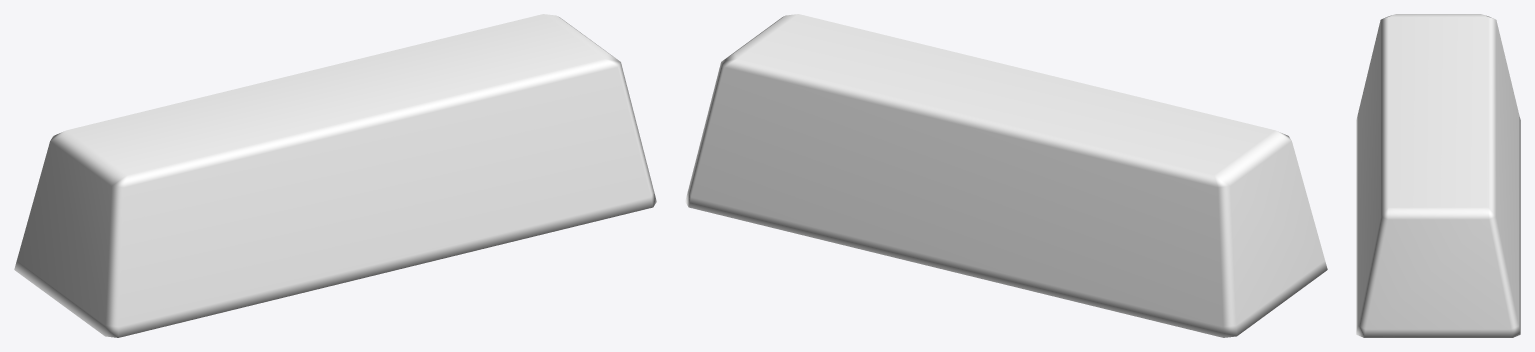
The model's file is SM_RefinedMetal_4a.fbx.
3 views of the same model, side by side, from view 1: azimuth 30°, elevation 25°; view 2: azimuth 150°, elevation 25°; view 3: azimuth 270°, elevation 25° (orthographic). The views are drawn at different scales.
Visible parts, largest first — view 1: RefinedMetal_4a; view 2: RefinedMetal_4a; view 3: RefinedMetal_4a.
Boxes of the visible parts, x1=… form: RefinedMetal_4a: x1=14, y1=14, x2=656, y2=337; RefinedMetal_4a: x1=685, y1=14, x2=1327, y2=337; RefinedMetal_4a: x1=1356, y1=14, x2=1520, y2=337.
Size of the model in its own units: 0.8441 by 0.2067 by 0.2668.
